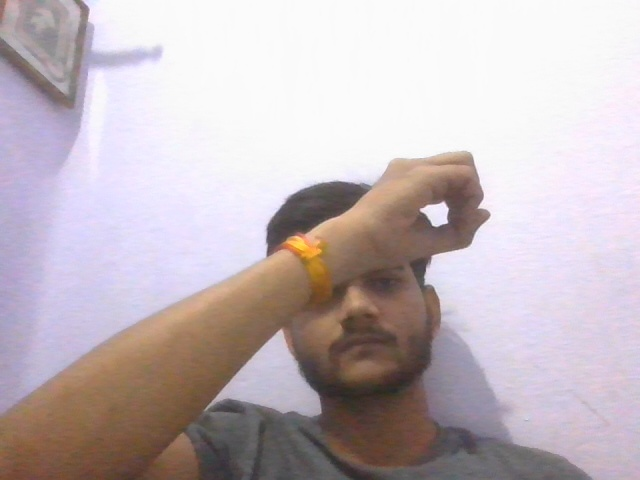no: (338, 138, 529, 299)
